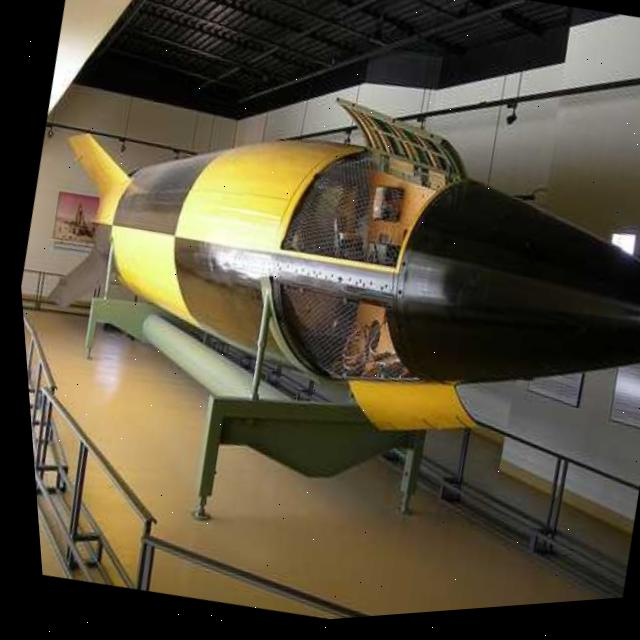missile: (9, 52, 640, 495)
